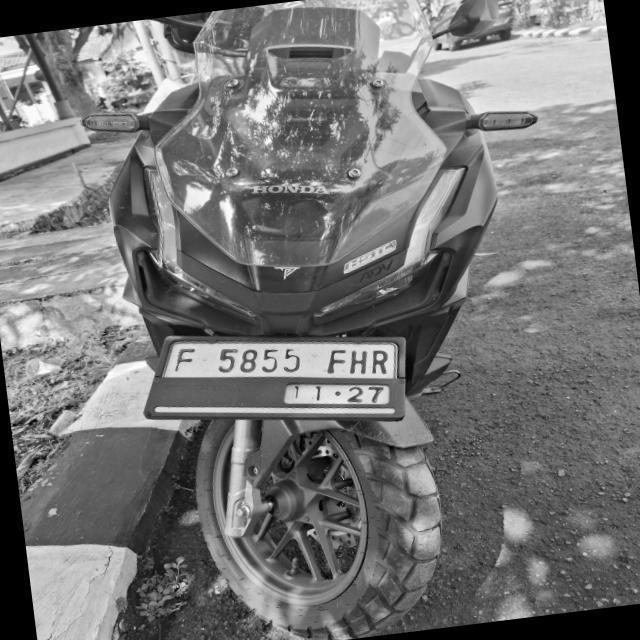5: (213, 345, 236, 379), (284, 344, 302, 377), (264, 346, 278, 383)
8: (236, 346, 259, 375)
F: (165, 343, 201, 379), (318, 343, 350, 382)
H: (342, 346, 371, 378)
R: (367, 346, 391, 378)
